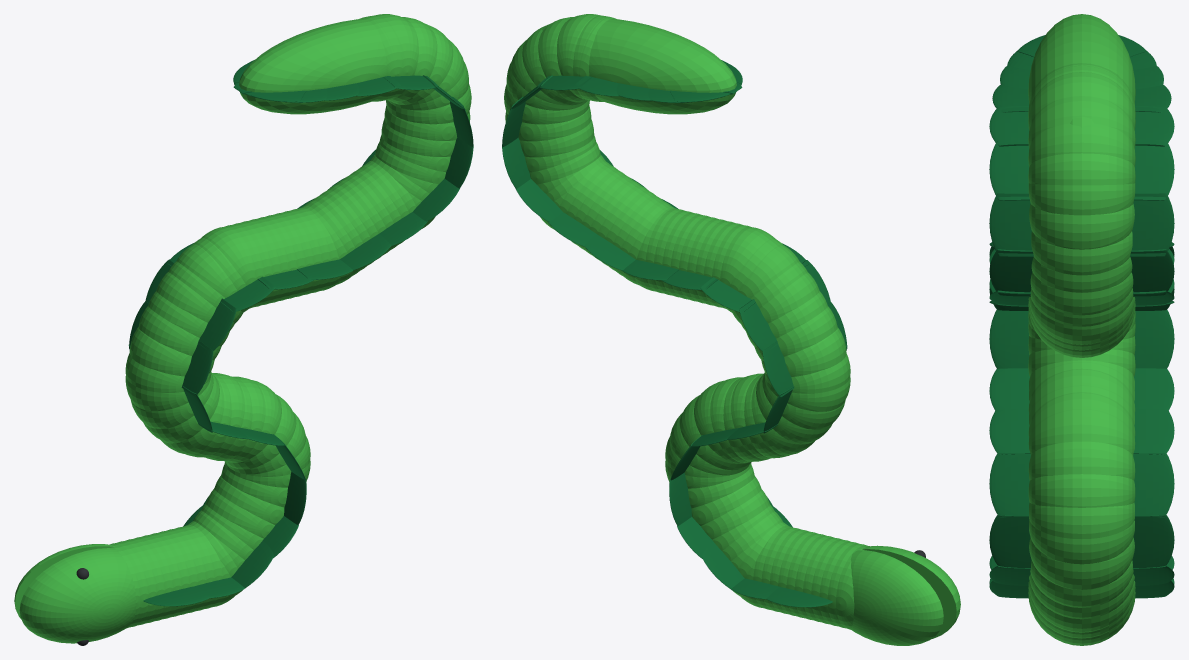
File: tinker.obj
3 renders of one model, left to right at view 1: azimuth 30°, elevation 25°; view 2: azimuth 150°, elevation 25°; view 3: azimuth 270°, elevation 25°, orthographic. The views are drawn at different scales.
Visible parts, largest first — view 1: group_0_4634441, group_0_1206582; view 2: group_0_4634441, group_0_1206582; view 3: group_0_4634441, group_0_1206582.
Part boxes in pixels (x1=…): group_0_4634441: x1=14, y1=14, x2=471, y2=643; group_0_1206582: x1=128, y1=60, x2=473, y2=606; group_0_4634441: x1=504, y1=14, x2=960, y2=645; group_0_1206582: x1=502, y1=60, x2=847, y2=607; group_0_4634441: x1=1028, y1=14, x2=1135, y2=645; group_0_1206582: x1=989, y1=35, x2=1174, y2=598.
Size of the model in its own units: 108 by 127 by 31.
